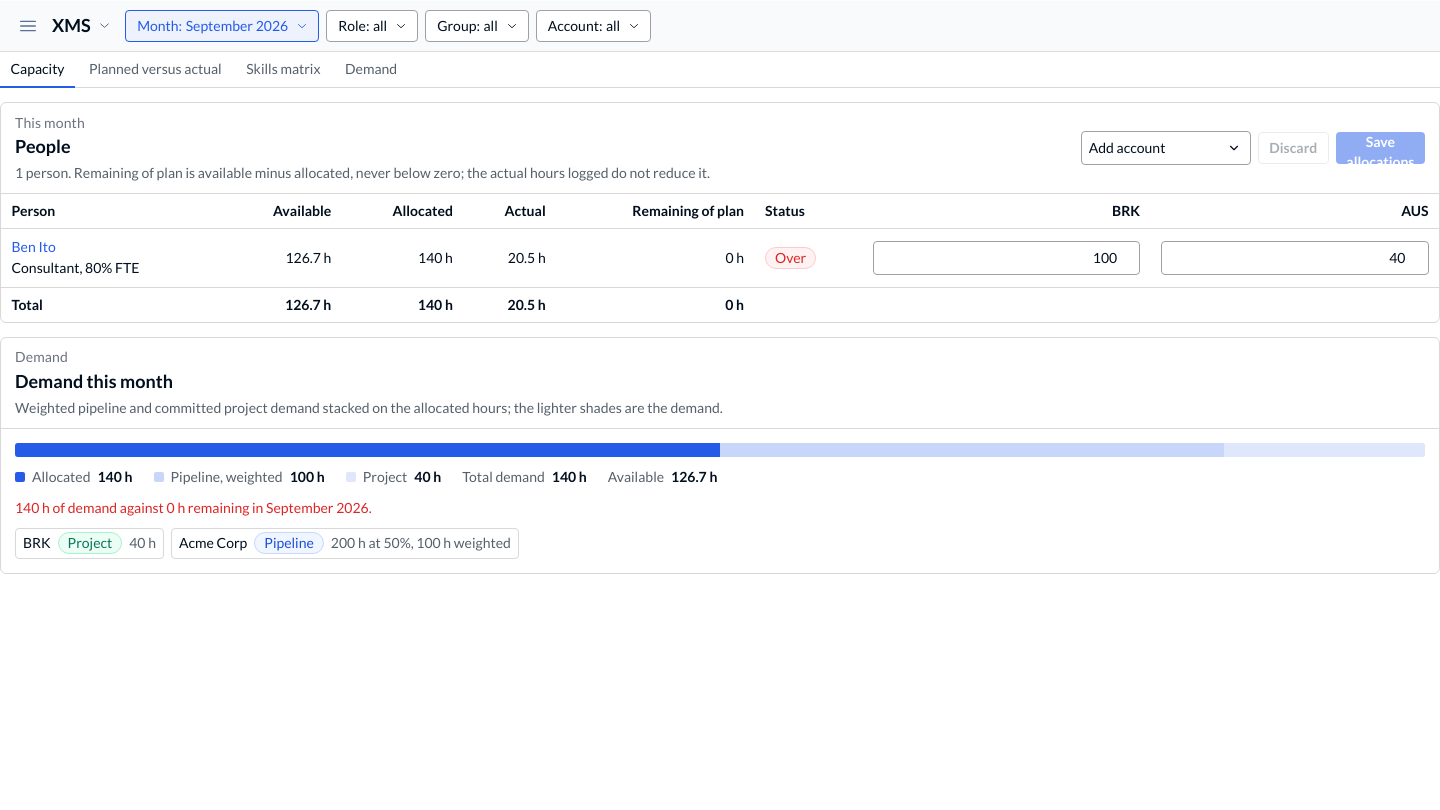
Scenario: CapacityPage › adds a column for a granted account not yet on the grid
expect the column heading "AUS" is shown: met, box [1151,194,1439,228]
expect the column heading "NOR" is not shown: met
Select "NOR Northwind" in the dropdown named "Add account" at (1166, 148), box [1081,131,1251,165]
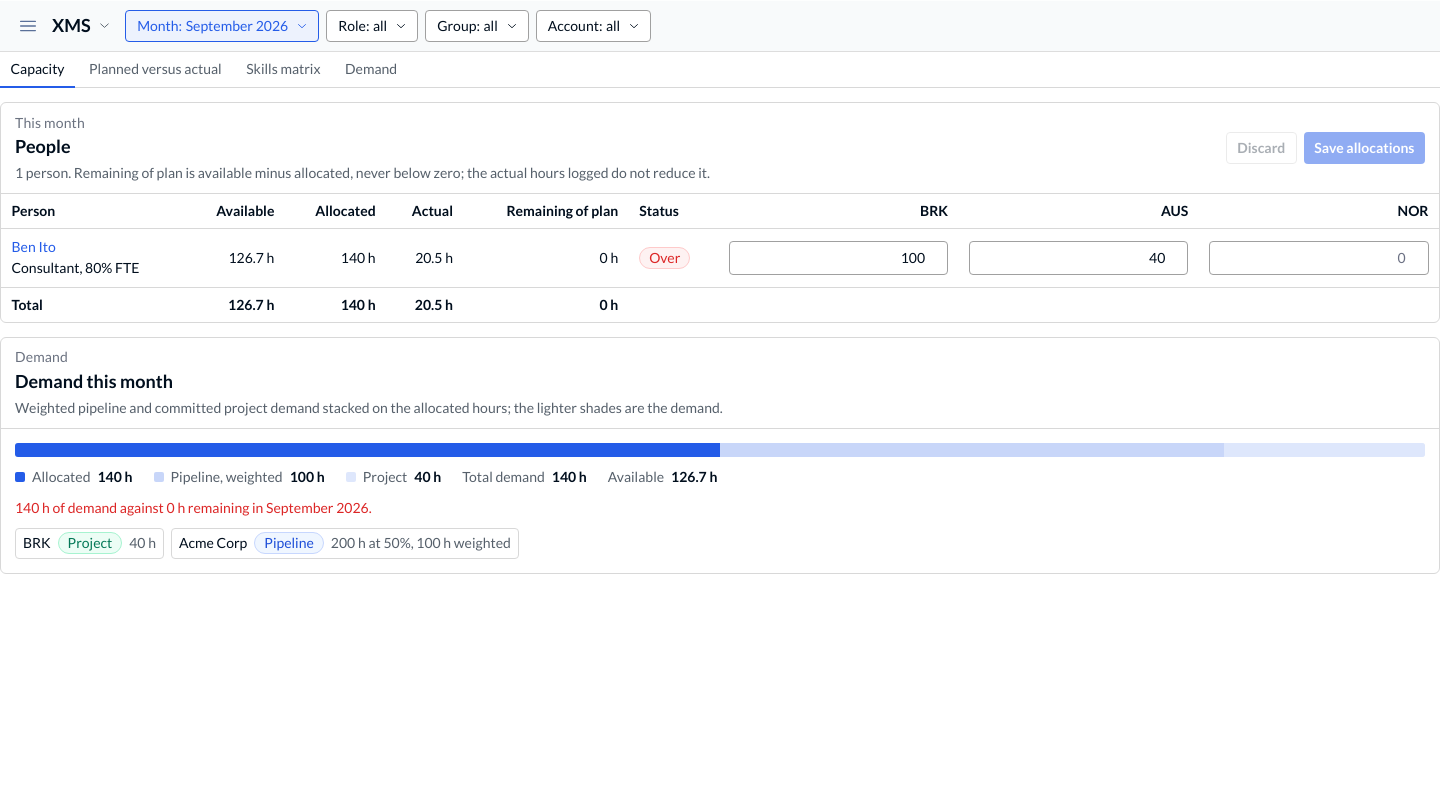
expect the field labelled "Add account" is not shown: met
expect the column heading "NOR" is shown: met, box [1199,194,1439,228]
expect the number field named "Ben Ito on NOR" is not empty: met, box [1209,241,1428,275]
